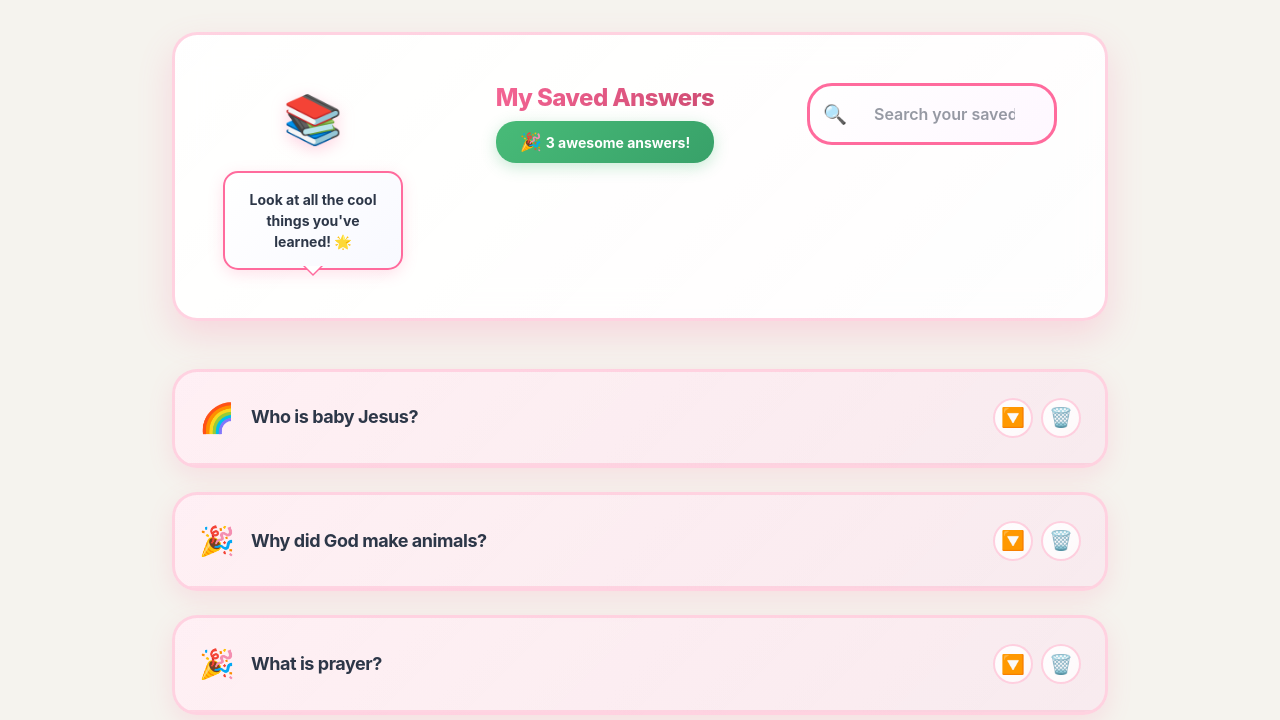
KidsSavedAnswers › filters answers based on search query
This screenshot has width=1280, height=720.
In the search field with class "kids-search-input": x=932, y=114 807,83 -> 1057,145, type "prayer"
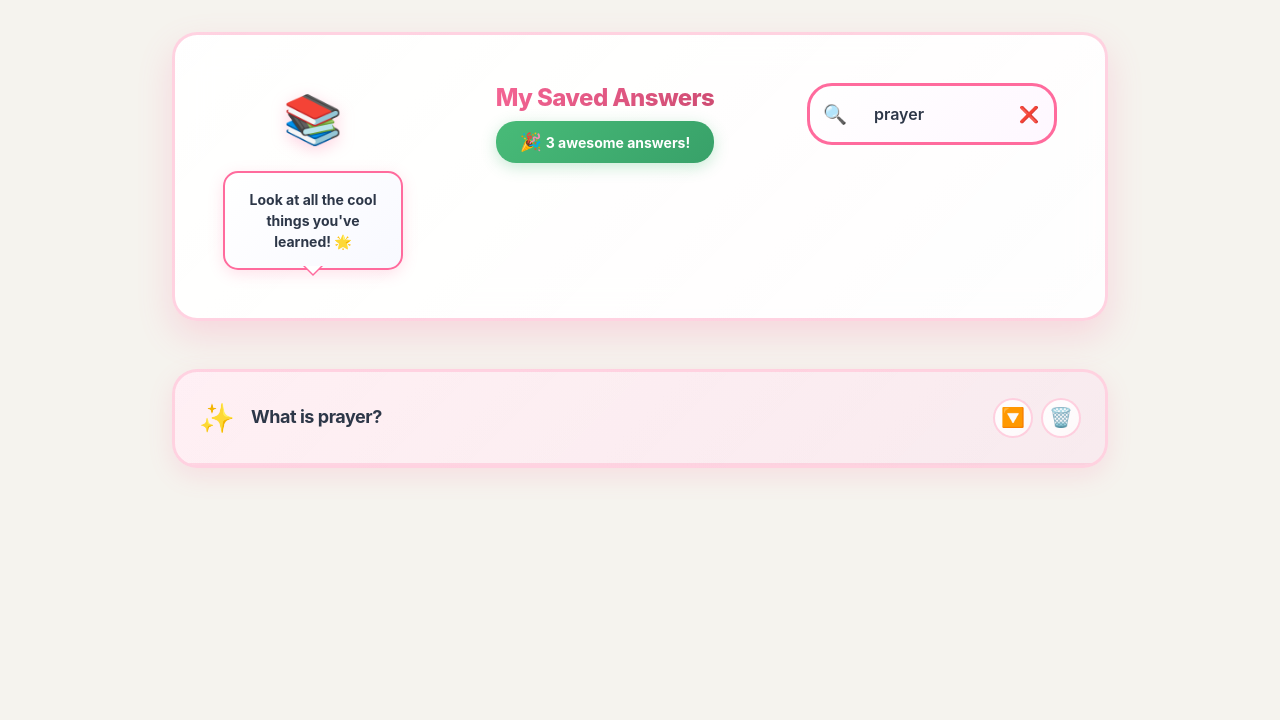
Expected: the element with class "kids-answer-card" shows "What is prayer?", 251,406 -> 382,427
Now the number of elements with class "kids-answer-card" is 1, box 172,369 -> 1108,468
